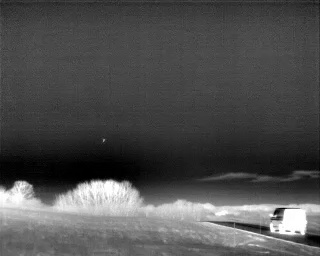BIRD: (100, 135, 108, 145)
